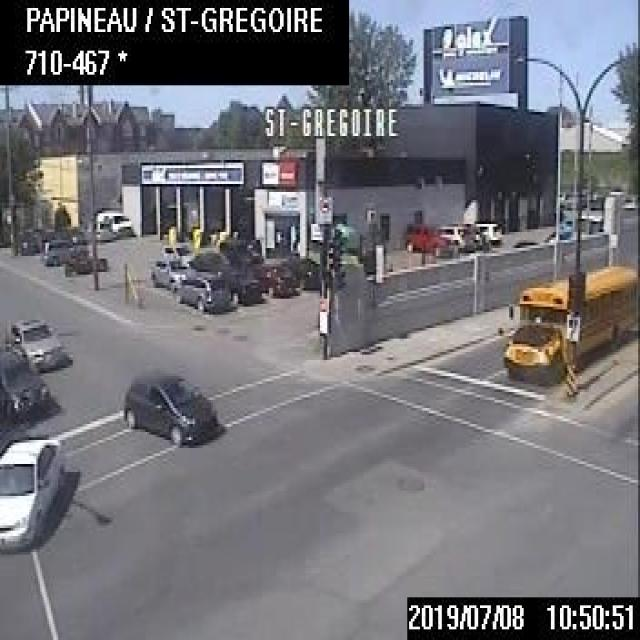bus: (498, 259, 638, 384)
vehicle: (0, 432, 62, 555), (122, 374, 222, 446), (0, 347, 49, 424), (4, 315, 64, 370), (170, 267, 237, 312), (255, 258, 300, 297), (402, 221, 451, 255), (186, 248, 237, 280), (148, 254, 186, 292), (219, 266, 259, 301), (282, 254, 320, 289), (41, 236, 86, 263), (438, 220, 476, 251), (96, 205, 130, 235), (64, 252, 106, 274), (159, 240, 194, 265), (471, 220, 499, 244), (458, 222, 485, 246), (14, 229, 36, 253), (86, 219, 110, 239)
